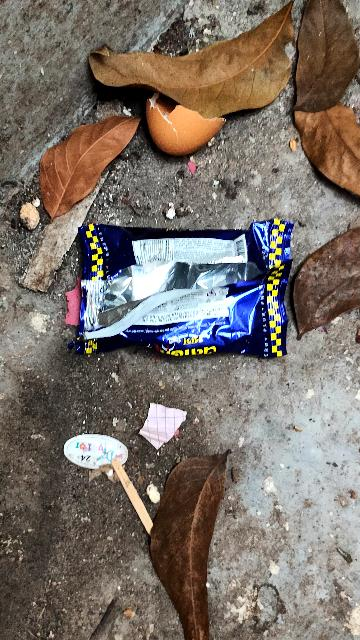packet: (75, 218, 303, 367)
